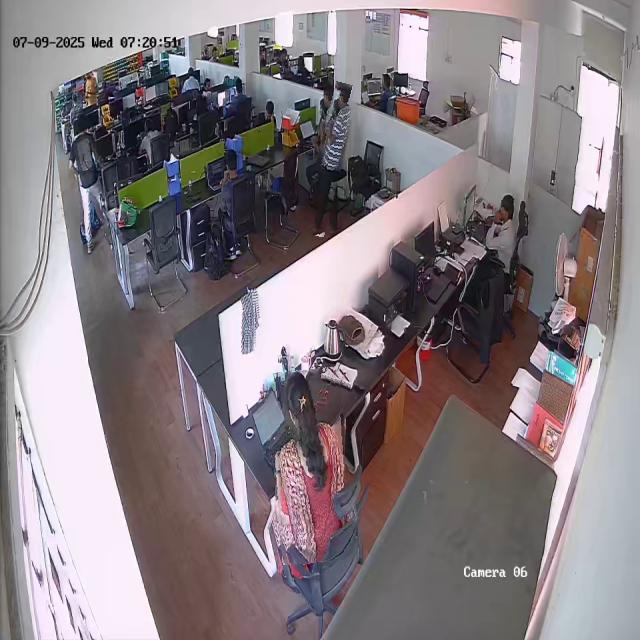person: (268, 368, 354, 563), (308, 82, 352, 237), (487, 193, 516, 263)
